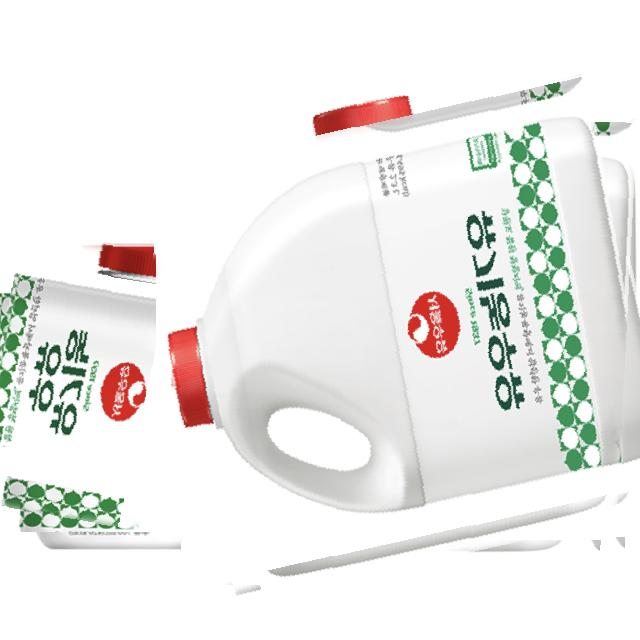recyclable: (156, 69, 640, 585), (0, 239, 273, 532)
